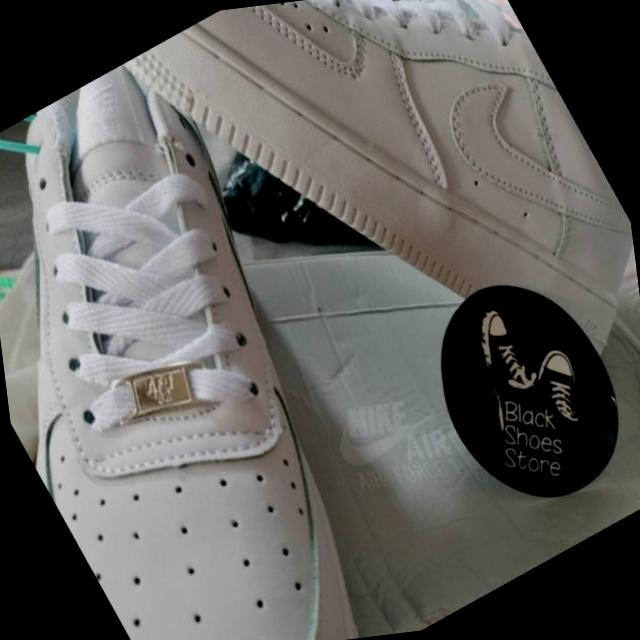nike_fake_airforce: (0, 14, 469, 640), (108, 0, 640, 482)
